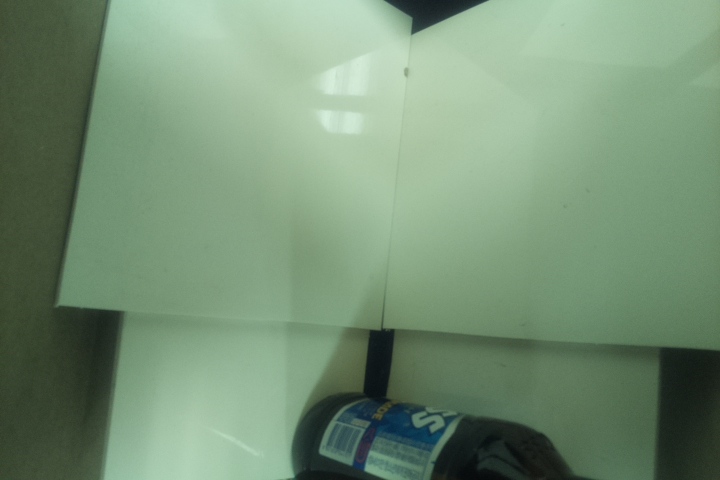makju: (290, 389, 595, 480)
